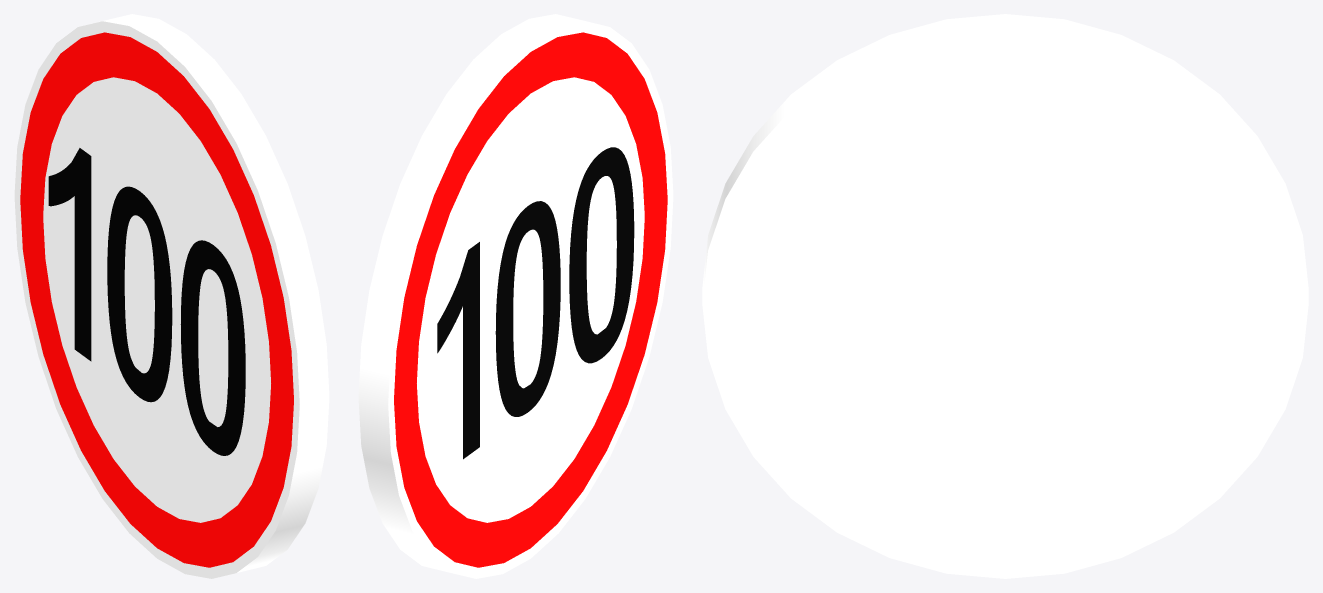
File: Speed_Limit_100.glb
3 views of the same model, side by side, from view 1: azimuth 30°, elevation 25°; view 2: azimuth 150°, elevation 25°; view 3: azimuth 270°, elevation 25° (orthographic). The views are drawn at different scales.
Visible parts, largest first — view 1: Speed_Limit_100; view 2: Speed_Limit_100; view 3: Speed_Limit_100.
Boxes of the visible parts, box(x1,y1,x2,y2) form: Speed_Limit_100: box(14, 14, 329, 578); Speed_Limit_100: box(358, 14, 673, 578); Speed_Limit_100: box(702, 14, 1308, 578).
Size of the model in its own units: 0.075 by 1 by 1.
